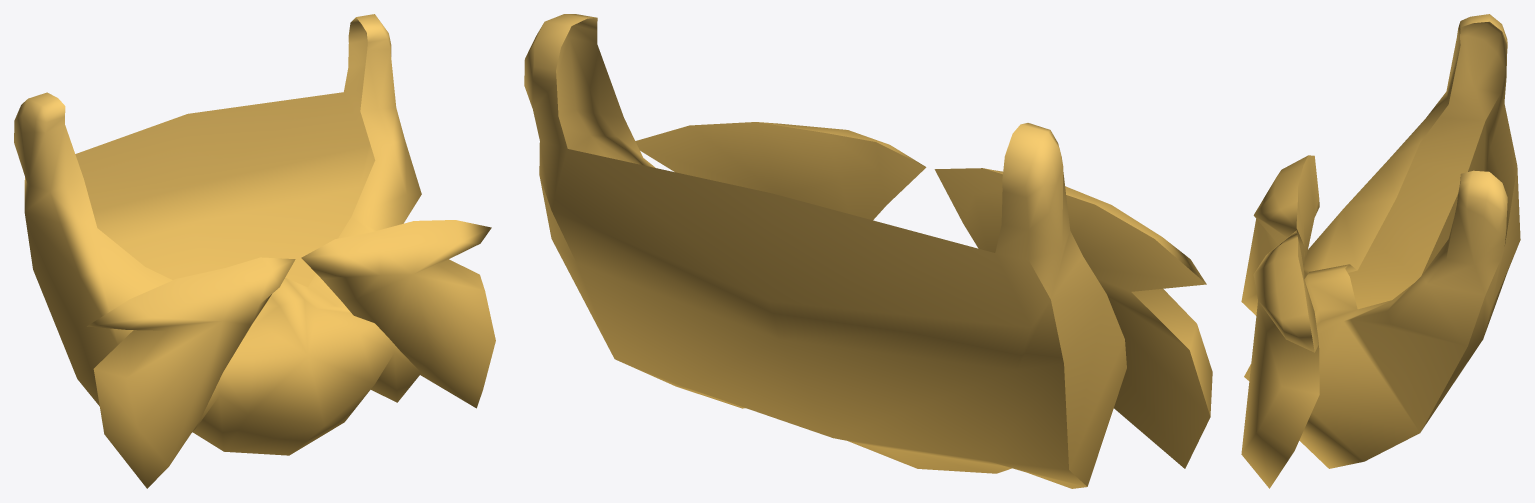
The model's file is Beard_Yellow_15.fbx.
3 views of the same model, side by side, from view 1: azimuth 30°, elevation 25°; view 2: azimuth 150°, elevation 25°; view 3: azimuth 270°, elevation 25° (orthographic). The views are drawn at different scales.
Parts seen in each view (by area): view 1: Beard_Yellow_15; view 2: Beard_Yellow_15; view 3: Beard_Yellow_15.
Boxes of the visible parts, box(x1,y1,x2,y2) form: Beard_Yellow_15: box(14, 14, 495, 488); Beard_Yellow_15: box(524, 14, 1212, 488); Beard_Yellow_15: box(1241, 14, 1520, 488).
Size of the model in its own units: 57.97 by 45.99 by 34.69.
